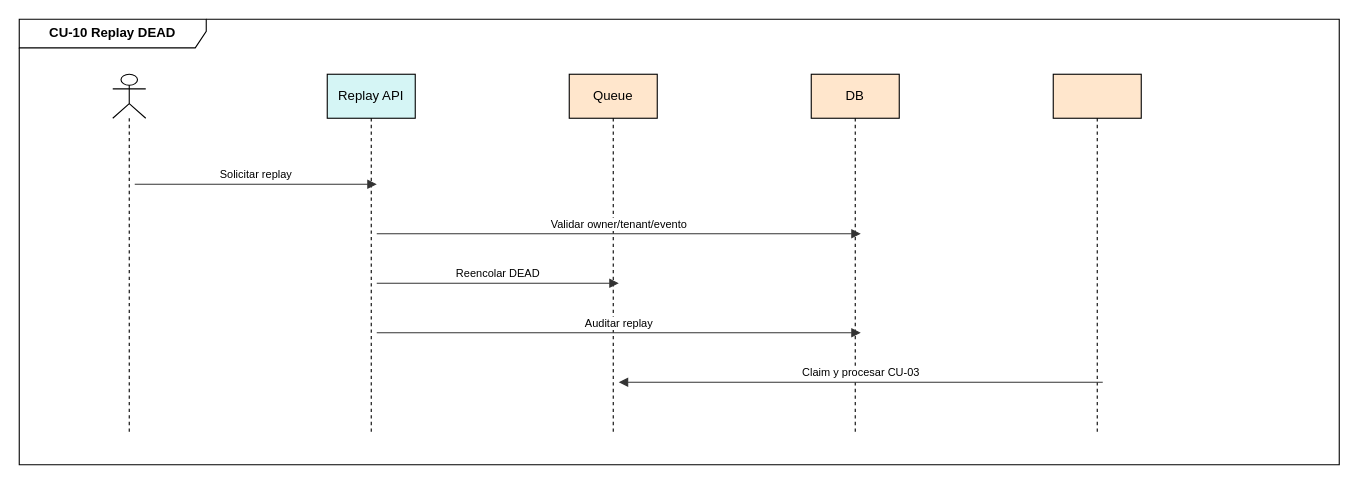
This 1359x484 diagram has some shape labels left out. Here are the shapes that lost their labels. From the top down, the box of each, then its label:
(112, 73, 146, 432): Dueño
(1052, 73, 1141, 432): Worker
